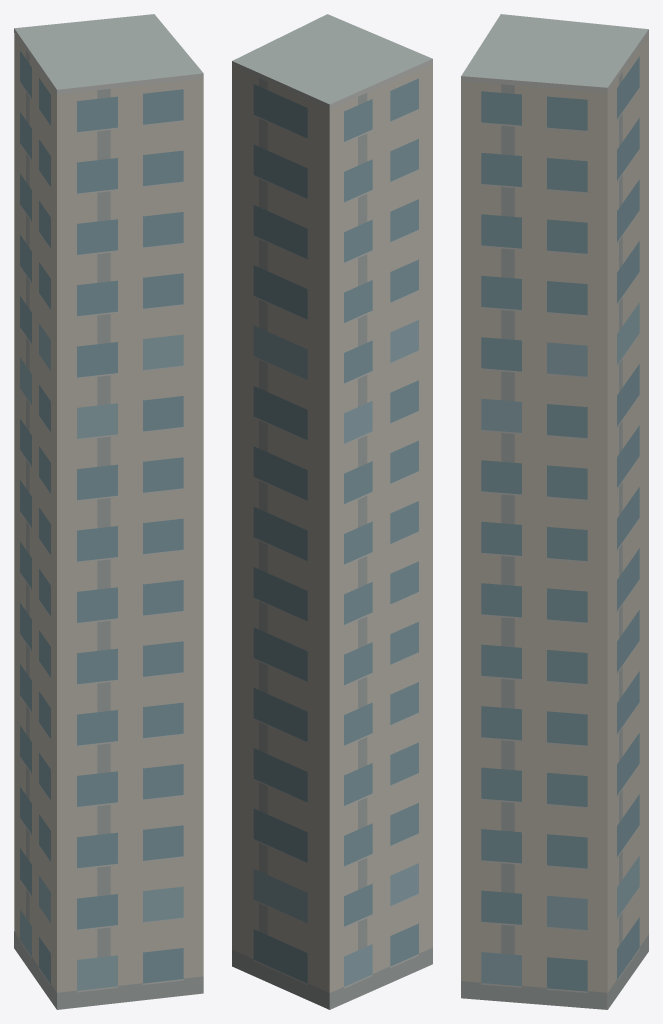
Rendered from survey-upis-32764229.glb.
3 renders of one model, left to right at view 1: azimuth 30°, elevation 25°; view 2: azimuth 150°, elevation 25°; view 3: azimuth 270°, elevation 25°, orthographic.
Visible parts, largest first — view 1: survey-upis-32764229.tmp; view 2: survey-upis-32764229.tmp; view 3: survey-upis-32764229.tmp.
Part boxes in pixels (left/top/right/bottom): survey-upis-32764229.tmp: left=14, top=14, right=203, bottom=1009; survey-upis-32764229.tmp: left=232, top=14, right=432, bottom=1009; survey-upis-32764229.tmp: left=461, top=14, right=648, bottom=1009.
Size of the model in its own units: 7.85 by 45.75 by 8.45.
